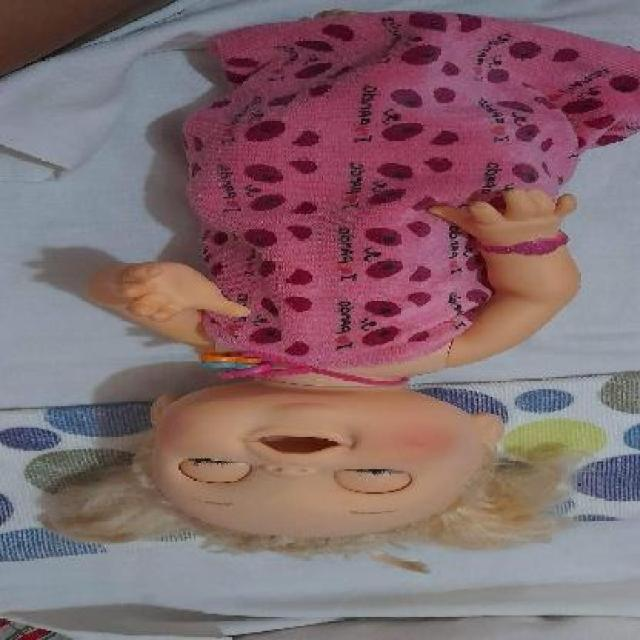non-dog: (35, 8, 640, 574)
